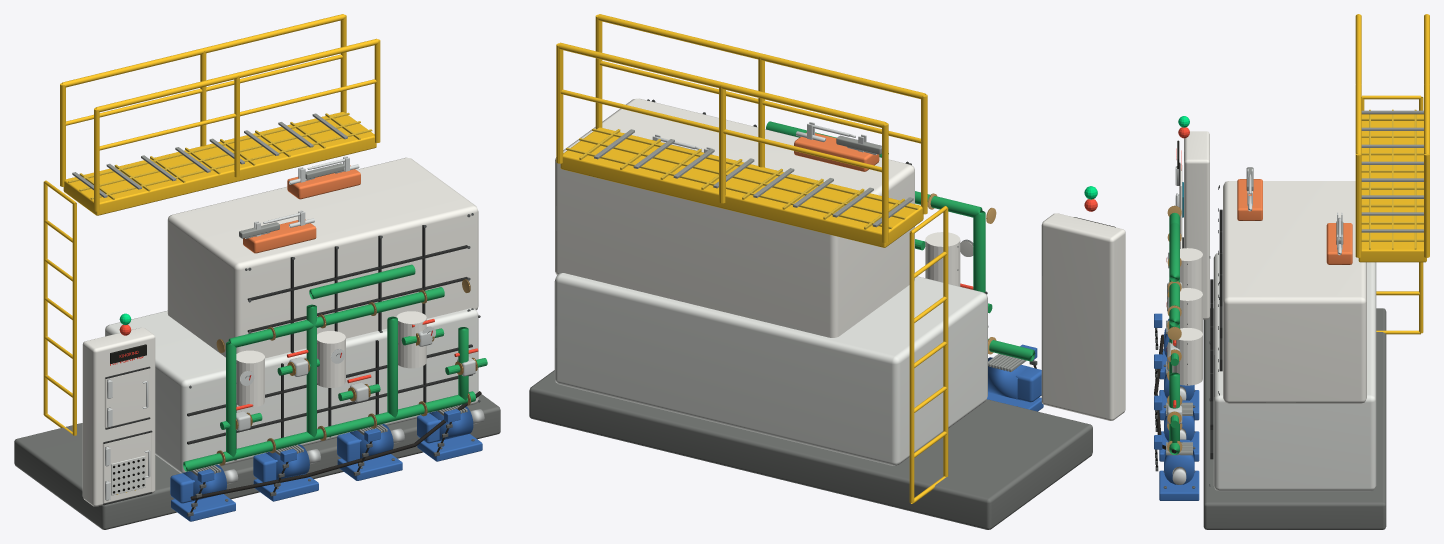
File: photo_washing_machine_v3.glb
3 renders of one model, left to right at view 1: azimuth 30°, elevation 25°; view 2: azimuth 150°, elevation 25°; view 3: azimuth 270°, elevation 25°, orthographic. The views are drawn at different scales.
Visible parts, largest first — view 1: wash_upper_process_tank, wash_lower_tank, wash_base_frame, wash_upper_service_platform_deck, wash_control_cabinet, wash_green_lower_header, wash_green_mid_header, wash_v3_control_cabinet_upper_cabinet_door_panel, wash_upper_service_platform_top_rail_0.5, wash_upper_service_platform_top_rail_1.1, wash_v3_control_cabinet_lower_cabinet_door_panel, wash_filter_canister_2 (+38 smaller); view 2: wash_lower_tank, wash_upper_process_tank, wash_base_frame, wash_control_cabinet, wash_upper_service_platform_deck, wash_upper_service_platform_top_rail_0.5, wash_upper_service_platform_top_rail_1.1, wash_upper_service_platform_mid_rail_1.1, wash_upper_service_platform_mid_rail_0.5, wash_ladder_ladder_right, wash_ladder_ladder_left, wash_filter_canister_1 (+14 smaller); view 3: wash_upper_process_tank, wash_lower_tank, wash_base_frame, wash_upper_service_platform_deck, wash_control_cabinet, wash_filter_canister_3, wash_upper_service_platform_top_rail_0.5, wash_top_lid_orange_right, wash_top_lid_orange_left, wash_filter_canister_2, wash_filter_canister_1, wash_v2_pump_base_04 (+12 smaller).
Boxes of the visible parts, x1=… form: wash_upper_process_tank: x1=167, y1=157, x2=478, y2=358; wash_lower_tank: x1=105, y1=308, x2=478, y2=473; wash_base_frame: x1=14, y1=394, x2=500, y2=529; wash_upper_service_platform_deck: x1=63, y1=112, x2=376, y2=215; wash_control_cabinet: x1=82, y1=327, x2=155, y2=506; wash_green_lower_header: x1=183, y1=391, x2=475, y2=471; wash_green_mid_header: x1=228, y1=287, x2=444, y2=347; wash_v3_control_cabinet_upper_cabinet_door_panel: x1=104, y1=368, x2=149, y2=427; wash_upper_service_platform_top_rail_0.5: x1=95, y1=38, x2=378, y2=112; wash_upper_service_platform_top_rail_1.1: x1=62, y1=14, x2=344, y2=87; wash_v3_control_cabinet_lower_cabinet_door_panel: x1=102, y1=432, x2=151, y2=503; wash_filter_canister_2: x1=317, y1=331, x2=345, y2=387; wash_lower_tank: x1=554, y1=273, x2=987, y2=465; wash_upper_process_tank: x1=555, y1=98, x2=914, y2=337; wash_base_frame: x1=529, y1=370, x2=1092, y2=529; wash_control_cabinet: x1=1041, y1=213, x2=1125, y2=420; wash_upper_service_platform_deck: x1=560, y1=127, x2=923, y2=247; wash_upper_service_platform_top_rail_0.5: x1=597, y1=14, x2=925, y2=99; wash_upper_service_platform_top_rail_1.1: x1=558, y1=42, x2=886, y2=127; wash_upper_service_platform_mid_rail_1.1: x1=560, y1=89, x2=881, y2=172; wash_upper_service_platform_mid_rail_0.5: x1=600, y1=61, x2=921, y2=143; wash_ladder_ladder_right: x1=909, y1=232, x2=914, y2=502; wash_ladder_ladder_left: x1=943, y1=207, x2=948, y2=476; wash_filter_canister_1: x1=925, y1=232, x2=960, y2=286; wash_upper_process_tank: x1=1223, y1=181, x2=1366, y2=403; wash_lower_tank: x1=1213, y1=252, x2=1376, y2=491; wash_base_frame: x1=1203, y1=308, x2=1386, y2=529; wash_upper_service_platform_deck: x1=1358, y1=114, x2=1426, y2=262; wash_control_cabinet: x1=1184, y1=131, x2=1209, y2=319; wash_filter_canister_3: x1=1172, y1=328, x2=1202, y2=385; wash_upper_service_platform_top_rail_0.5: x1=1355, y1=14, x2=1361, y2=153; wash_top_lid_orange_right: x1=1326, y1=223, x2=1352, y2=264; wash_top_lid_orange_left: x1=1237, y1=179, x2=1262, y2=220; wash_filter_canister_2: x1=1180, y1=288, x2=1202, y2=333; wash_filter_canister_1: x1=1180, y1=248, x2=1202, y2=293; wash_v2_pump_base_04: x1=1159, y1=470, x2=1199, y2=500.
Size of the model in its own units: 4.14 by 3.32 by 2.34.
